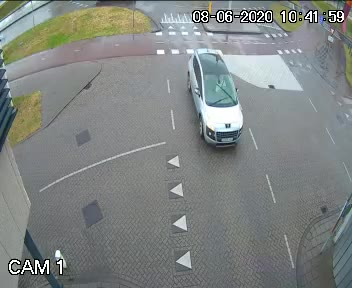car: (179, 42, 248, 148)
